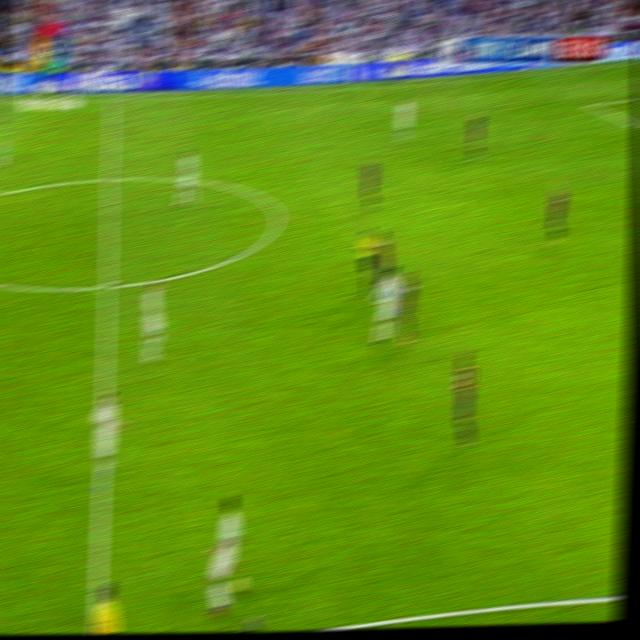bigarea_top_inner: (583, 97, 596, 111)
halfcircle_bottom: (98, 271, 116, 298)
halfcircle_top: (101, 165, 117, 190)
midline_top_intersection: (105, 94, 118, 106)
